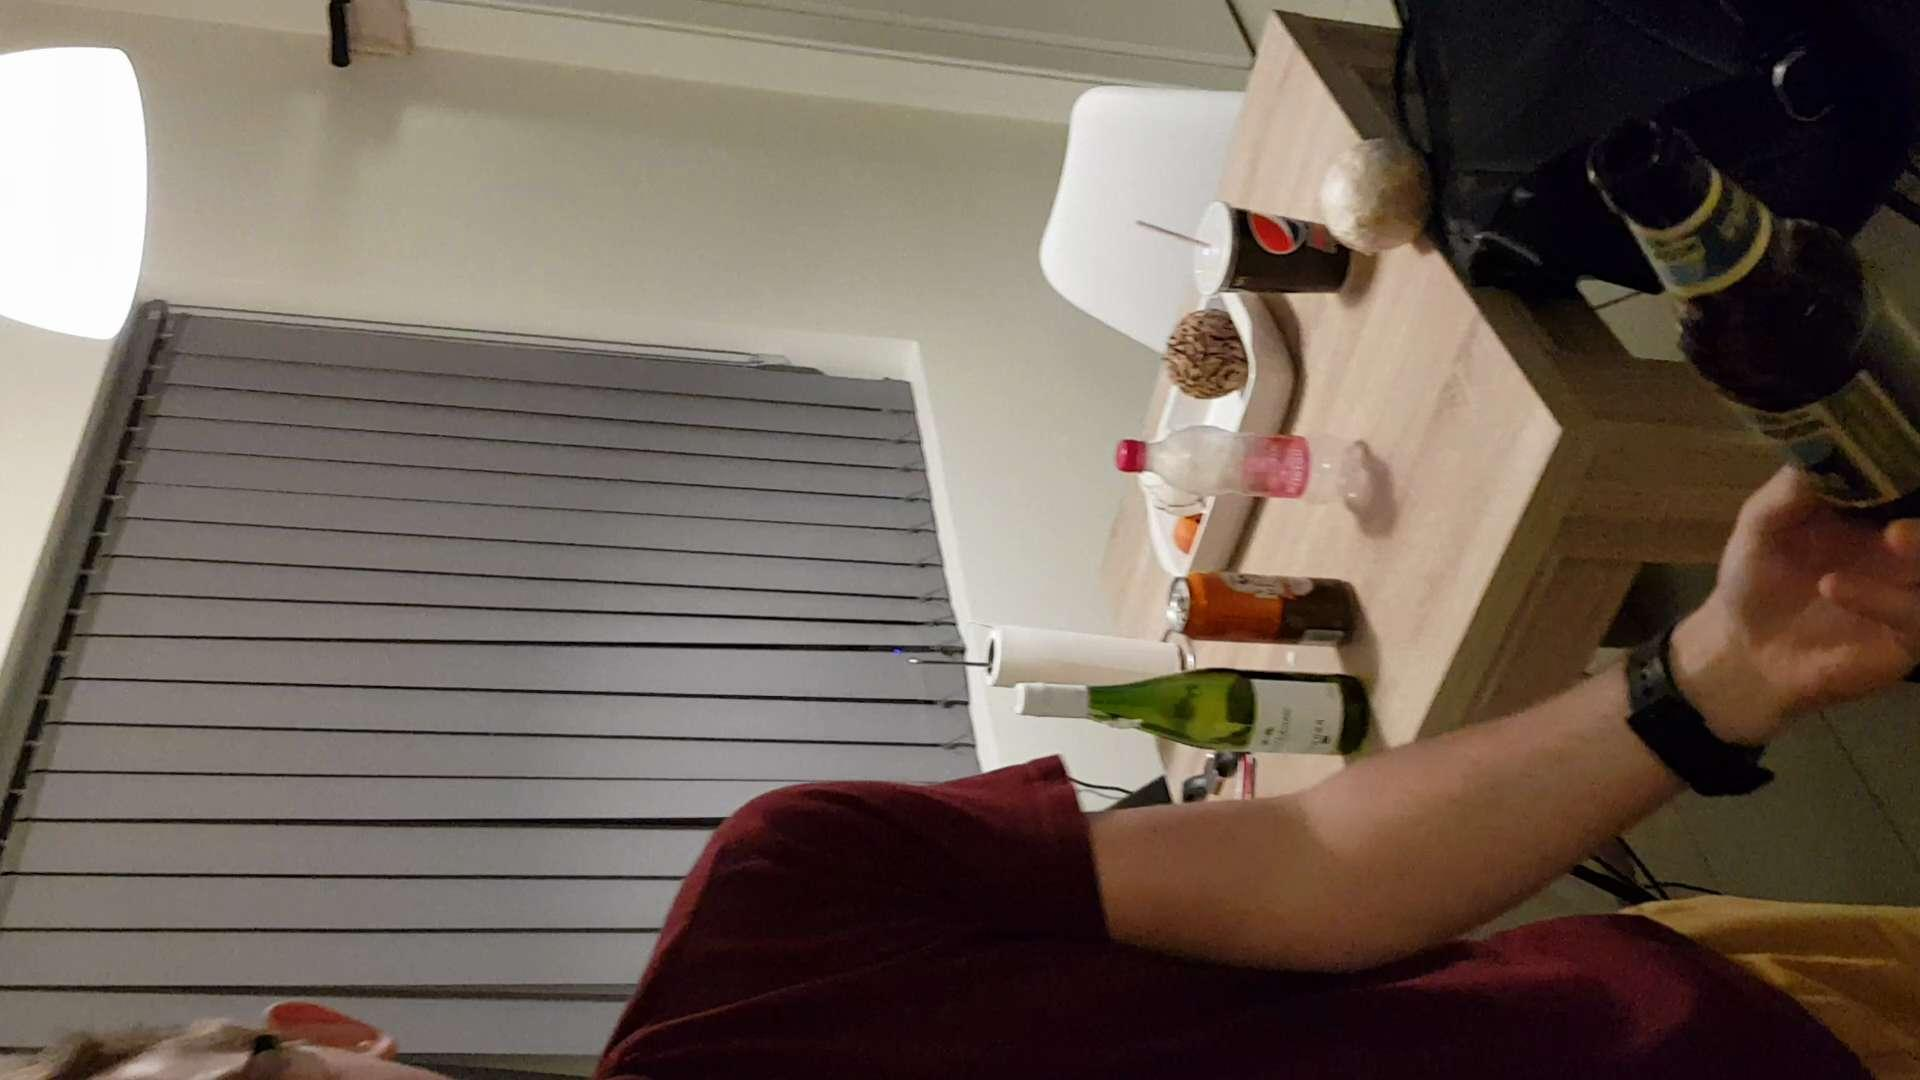Bottle: (1544, 125, 1911, 516), (1021, 655, 1381, 765)
